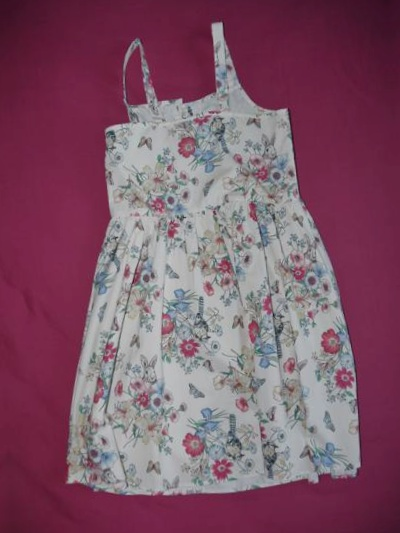Dress: (37, 38, 390, 519)
